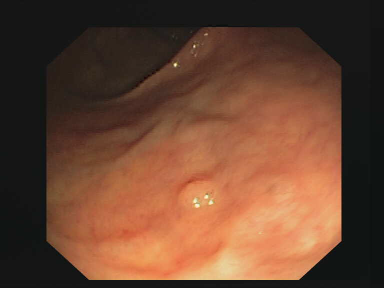polyp: (167, 161, 225, 218)
